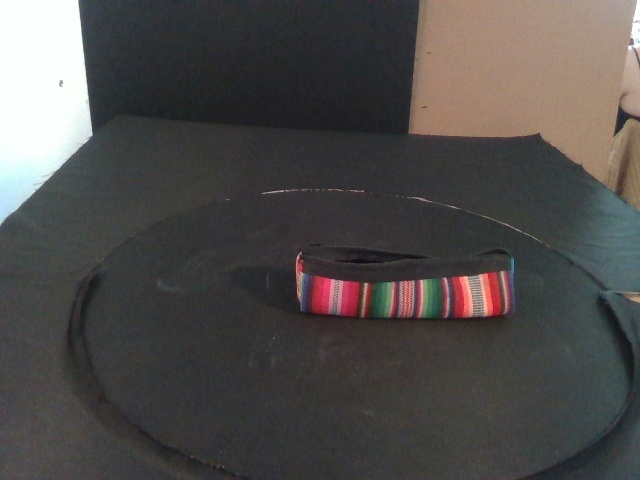pencil_case: (294, 243, 518, 321)
